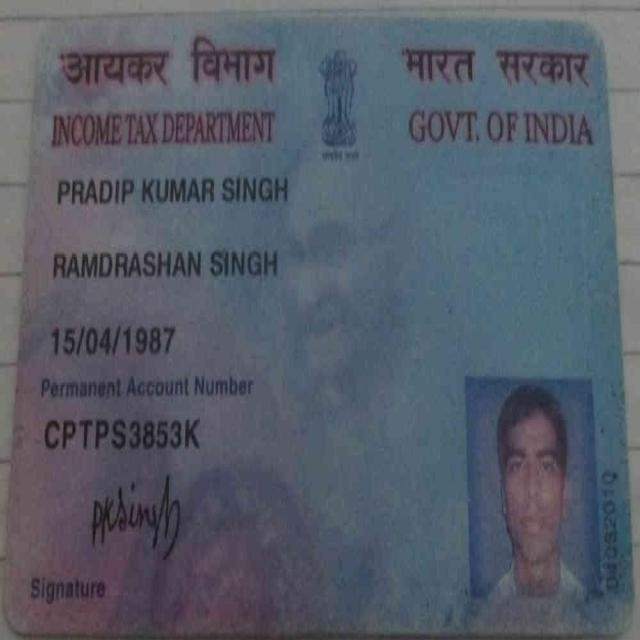pan_card: (12, 30, 630, 631)
